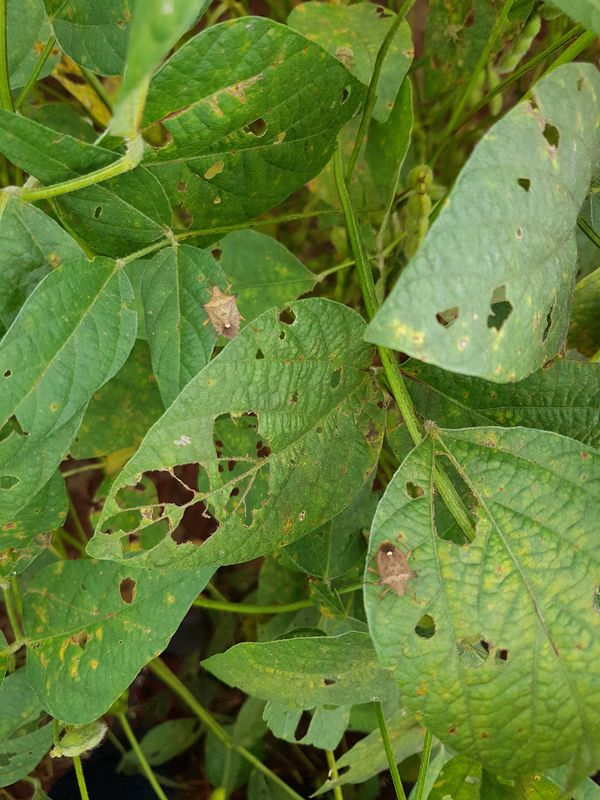Euschistus_heros_adulto: (354, 535, 425, 607), (188, 278, 258, 351)
